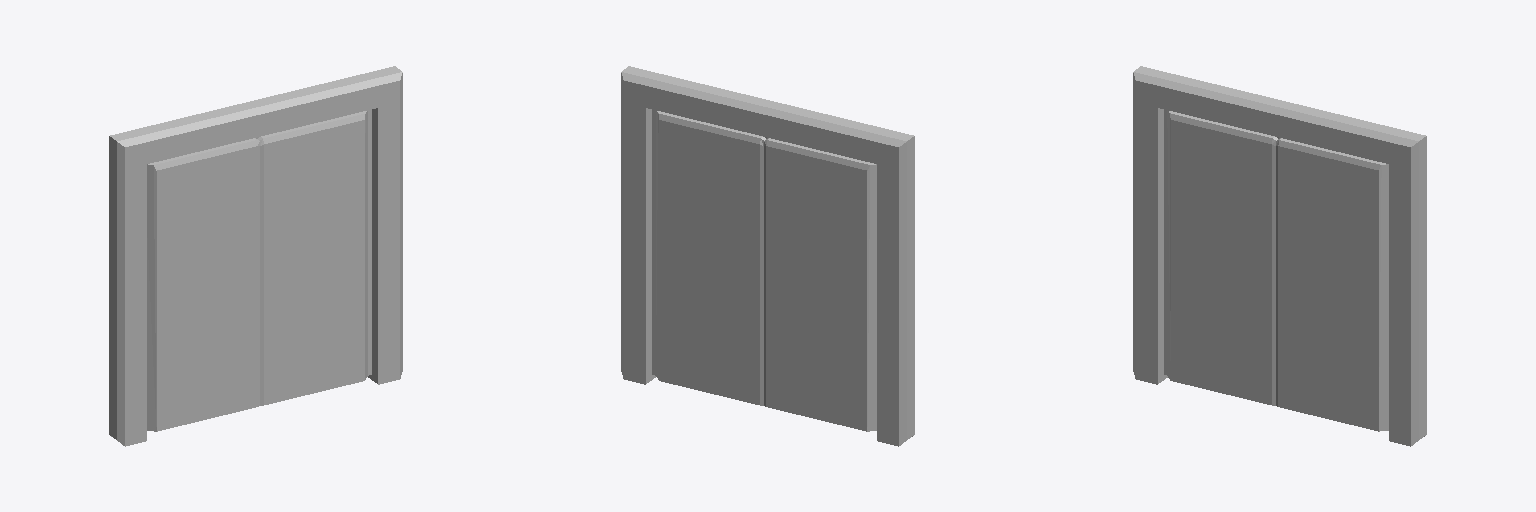
File: Wall_Red_2nd_Floor.obj
3 renders of one model, left to right at view 1: azimuth 30°, elevation 25°; view 2: azimuth 150°, elevation 25°; view 3: azimuth 330°, elevation 25°, orthographic.
Visible parts, largest first — view 1: Wall_Red_2nd_Floor; view 2: Wall_Red_2nd_Floor; view 3: Wall_Red_2nd_Floor.
Boxes of the visible parts, box(x1,y1,x2,y2) form: Wall_Red_2nd_Floor: box(109, 66, 402, 446); Wall_Red_2nd_Floor: box(621, 66, 914, 446); Wall_Red_2nd_Floor: box(1133, 66, 1426, 446).
Size of the model in its own units: 4 by 4.07 by 0.3241.